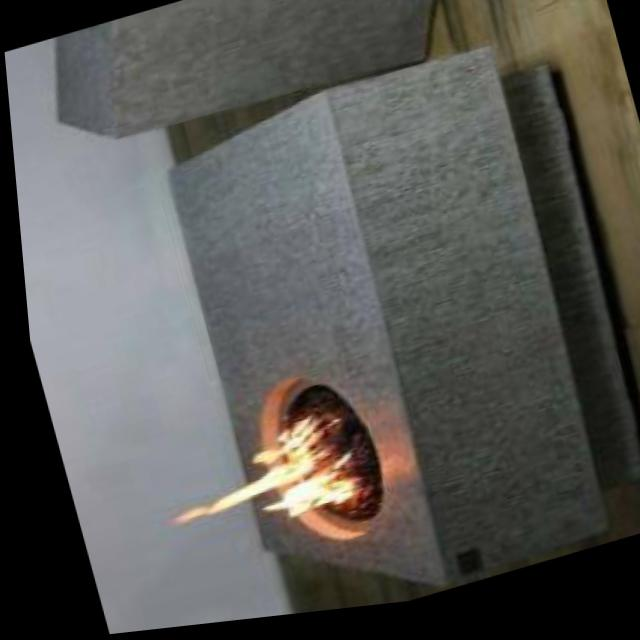Fire: (130, 410, 359, 562)
